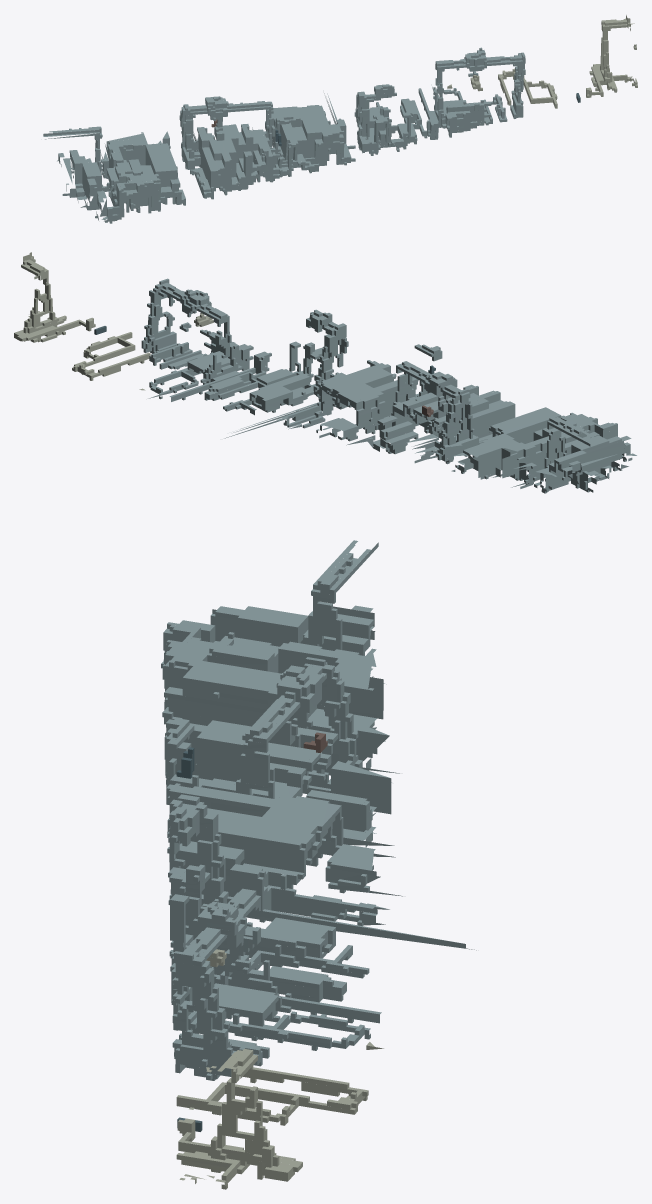
3 views of the same model, one above another, from view 1: azimuth 30°, elevation 25°; view 2: azimuth 150°, elevation 25°; view 3: azimuth 270°, elevation 25° (orthographic). The views are drawn at different scales.
Visible parts, largest first — view 1: measured-industrial; view 2: measured-industrial; view 3: measured-industrial.
Boxes of the visible parts, bbox=[...] form: measured-industrial: bbox=[43, 15, 637, 223]; measured-industrial: bbox=[14, 252, 636, 493]; measured-industrial: bbox=[161, 540, 476, 1189].
Size of the model in its own units: 272 by 32.09 by 66.53.
